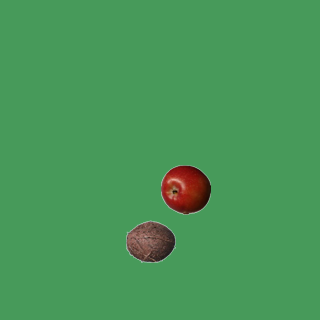Apple Braeburn: (160, 164, 210, 214)
Cocos: (125, 216, 175, 266)
